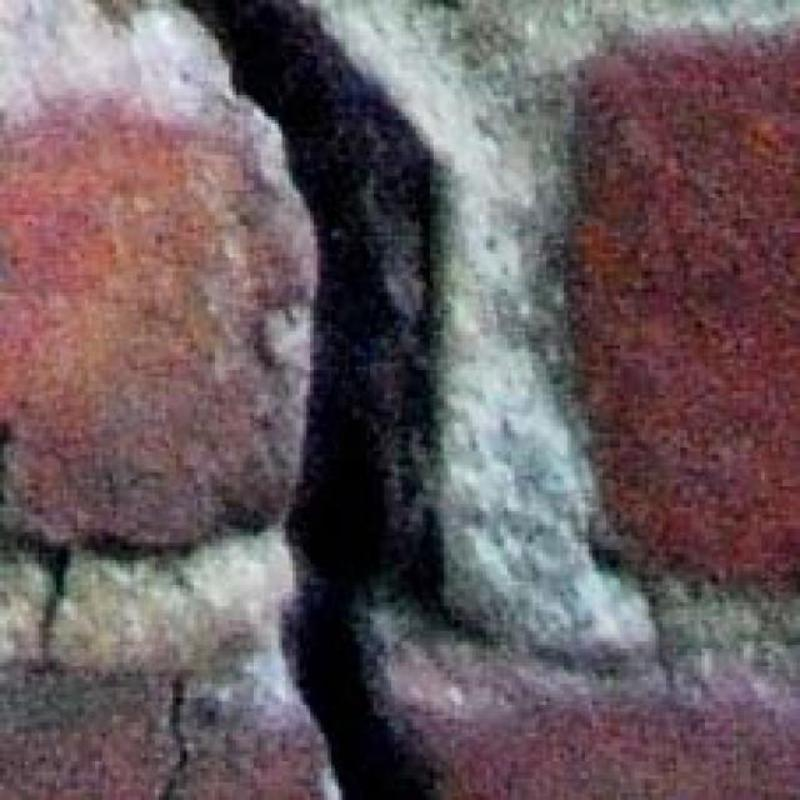crack: (181, 0, 442, 799), (32, 540, 72, 672), (160, 678, 188, 799)
